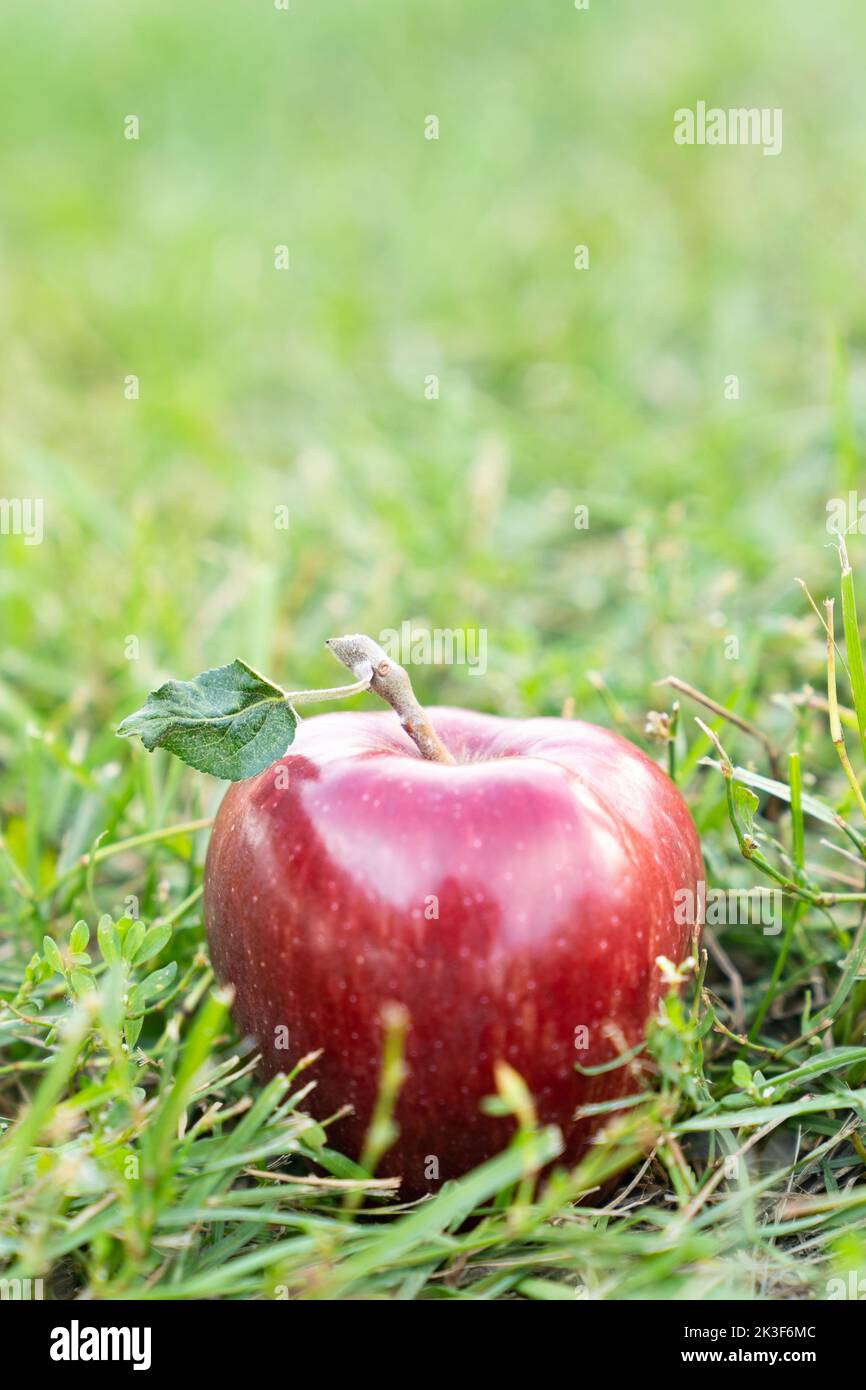apple/: (103, 636, 732, 1169)
